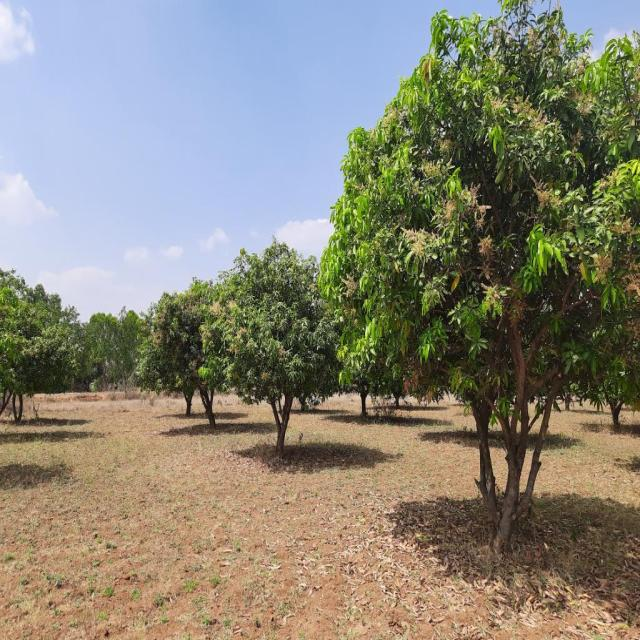Mango-Tree: (314, 0, 640, 490), (198, 225, 351, 439), (131, 269, 218, 407)
